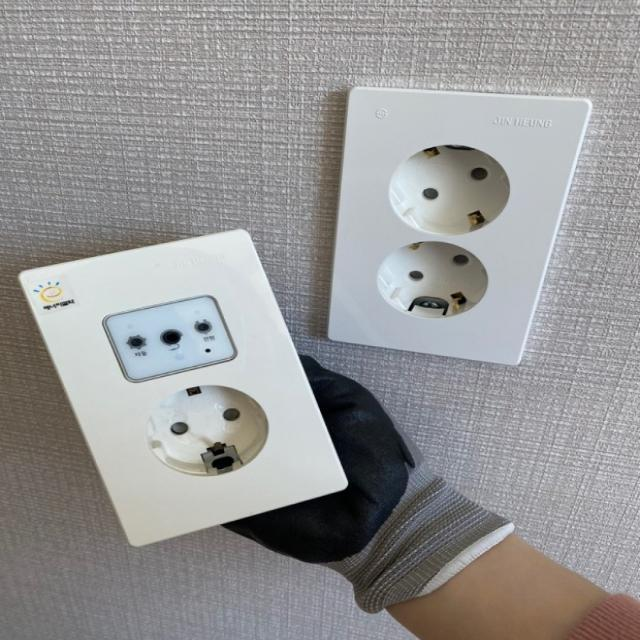typeb: (360, 49, 555, 376)
